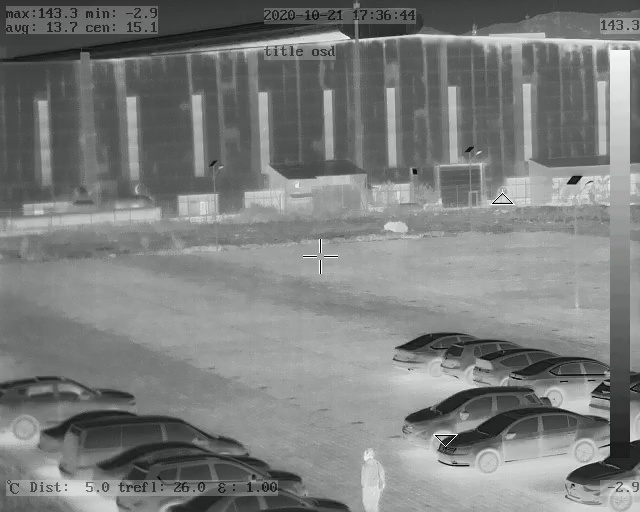person: (358, 450, 387, 512)
vehicle: (438, 408, 613, 471), (111, 451, 297, 510), (55, 413, 250, 468), (1, 371, 131, 431), (403, 384, 531, 444), (566, 444, 640, 512), (508, 356, 610, 400), (393, 328, 448, 371), (472, 347, 522, 385), (442, 341, 478, 379)
